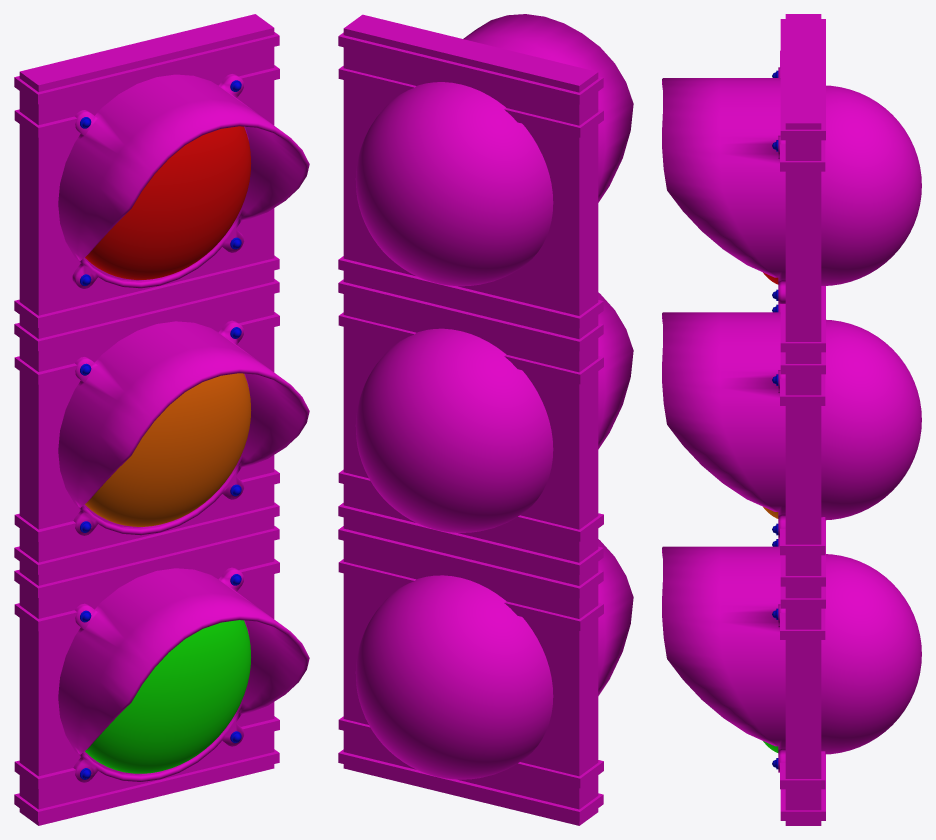
Rendered from semafor.fbx.
3 renders of one model, left to right at view 1: azimuth 30°, elevation 25°; view 2: azimuth 150°, elevation 25°; view 3: azimuth 270°, elevation 25°, orthographic. The views are drawn at different scales.
Parts seen in each view (by area): view 1: semafor.002; view 2: semafor.002; view 3: semafor.002.
Part boxes in pixels (x1,y1,x2,y2): semafor.002: [14, 14, 309, 825]; semafor.002: [338, 14, 633, 825]; semafor.002: [662, 14, 921, 825].
Size of the model in its own units: 36.88 by 108 by 36.2.
